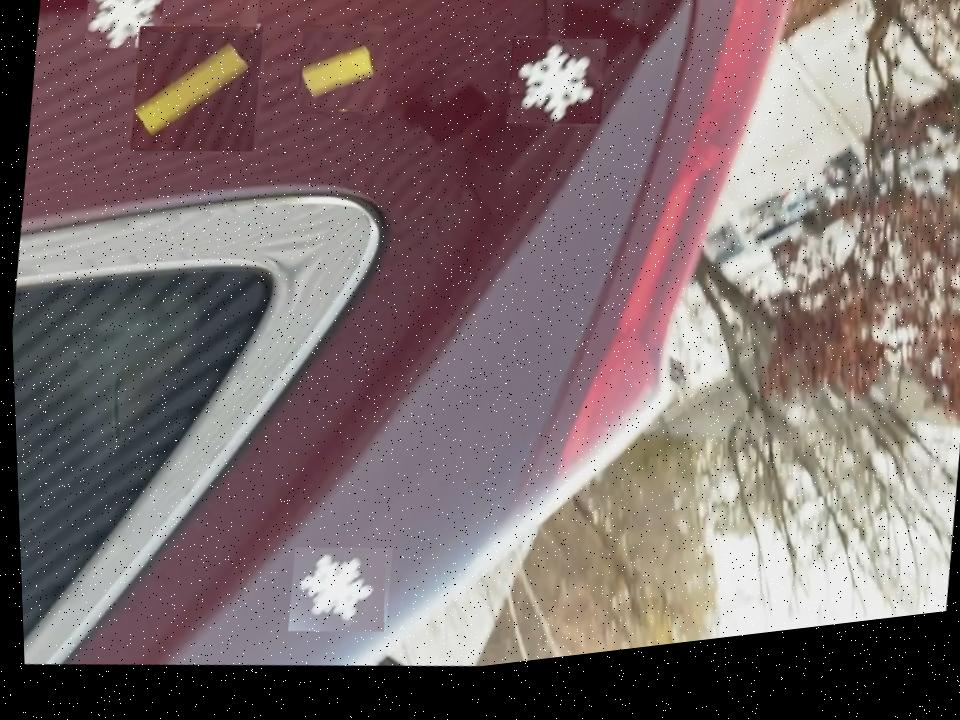dent: (282, 544, 392, 648), (504, 40, 607, 149), (82, 0, 171, 58)
scratch: (126, 18, 267, 168), (296, 27, 391, 129), (204, 0, 303, 10)
